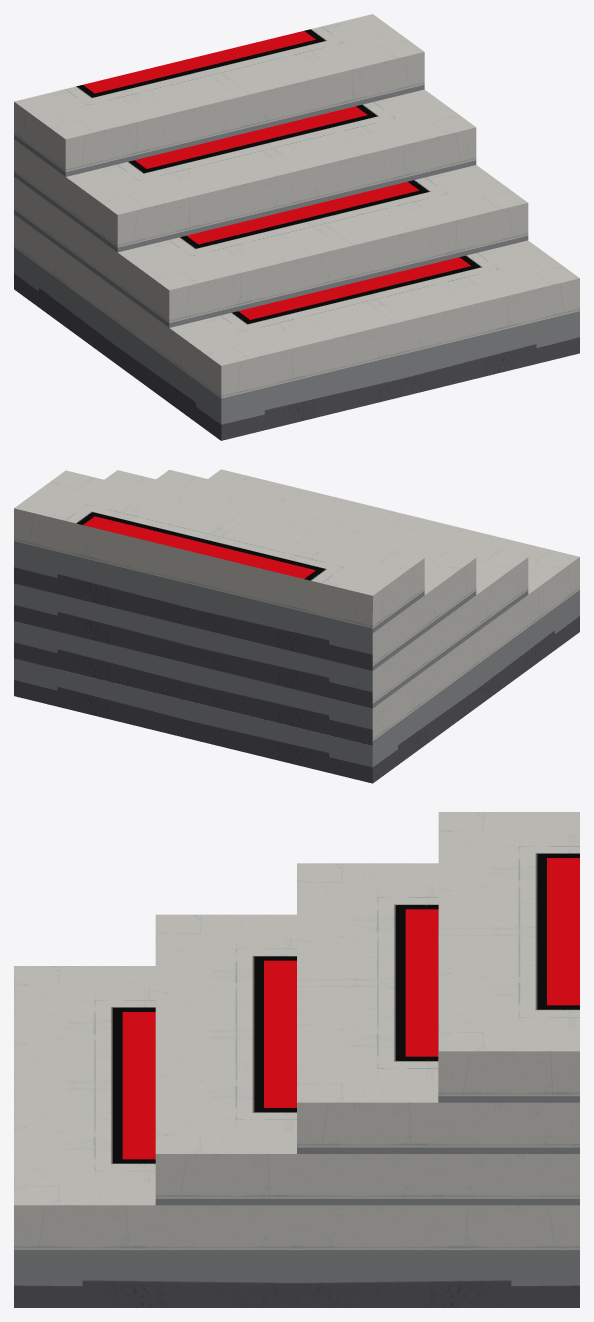
File: G_Env_Arch_Stairs_Metal_01_Small.fbx
3 views of the same model, one above another, from view 1: azimuth 30°, elevation 25°; view 2: azimuth 150°, elevation 25°; view 3: azimuth 270°, elevation 25° (orthographic). The views are drawn at different scales.
Parts seen in each view (by area): view 1: G_Env_Arch_Stairs_Metal_01_Small; view 2: G_Env_Arch_Stairs_Metal_01_Small; view 3: G_Env_Arch_Stairs_Metal_01_Small.
Boxes of the visible parts, bbox=[...] form: G_Env_Arch_Stairs_Metal_01_Small: bbox=[14, 14, 579, 440]; G_Env_Arch_Stairs_Metal_01_Small: bbox=[14, 469, 579, 783]; G_Env_Arch_Stairs_Metal_01_Small: bbox=[14, 812, 579, 1307].
Bounding box in the file's own units: 500 × 250 × 500.
